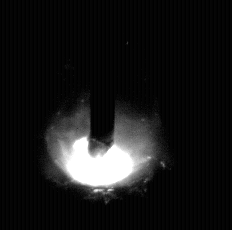arame: (90, 0, 116, 156)
poca: (47, 0, 157, 230)
